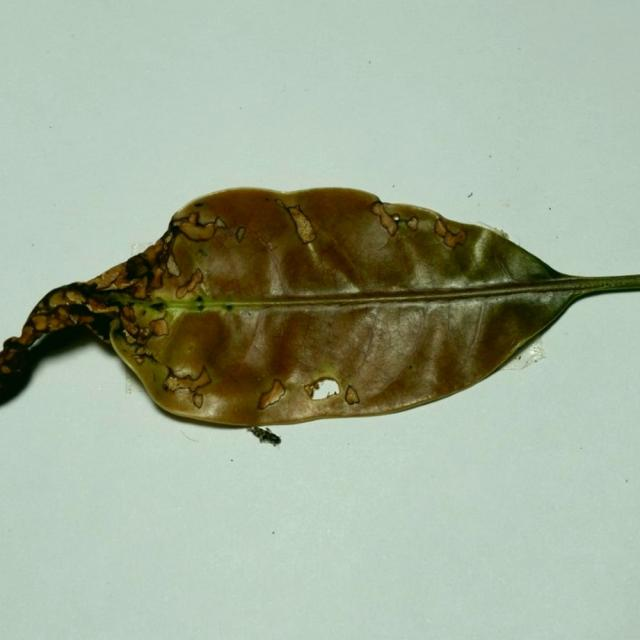Anthracnose: (378, 202, 466, 251), (269, 359, 346, 401), (175, 209, 245, 251), (161, 365, 214, 408), (118, 302, 162, 346), (275, 198, 316, 244), (123, 331, 162, 366), (88, 263, 130, 290), (256, 378, 287, 411), (57, 305, 91, 335), (371, 202, 400, 237), (60, 301, 106, 323), (174, 268, 204, 300), (0, 341, 29, 374), (83, 319, 116, 344), (124, 253, 153, 281), (84, 295, 119, 313), (157, 226, 178, 254), (148, 263, 168, 290), (50, 306, 75, 327), (129, 276, 149, 299), (2, 336, 27, 353), (64, 288, 87, 304), (163, 374, 183, 392), (166, 254, 181, 277), (44, 291, 64, 308), (165, 221, 182, 241), (44, 315, 65, 331), (120, 328, 139, 345), (19, 325, 36, 344), (121, 305, 137, 325), (31, 314, 49, 331), (214, 216, 230, 230), (372, 202, 385, 216), (406, 216, 418, 231), (187, 212, 199, 224), (275, 198, 288, 209)
Mango: (0, 189, 639, 448)
